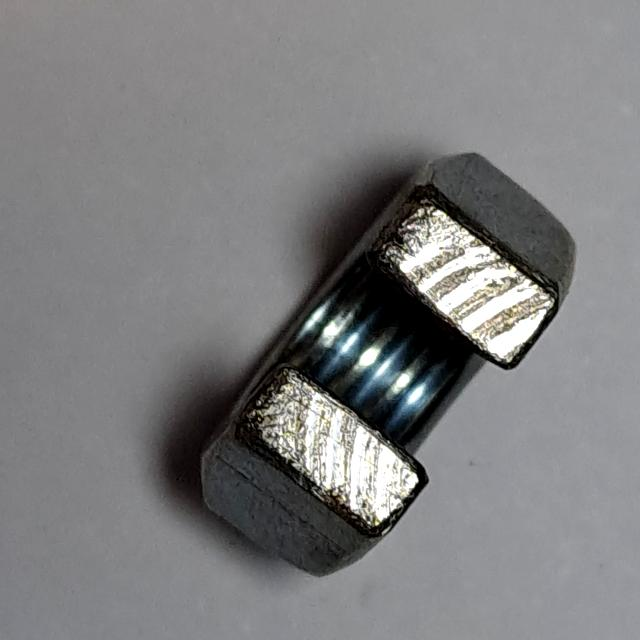Side-Fracture: (188, 132, 591, 596)
